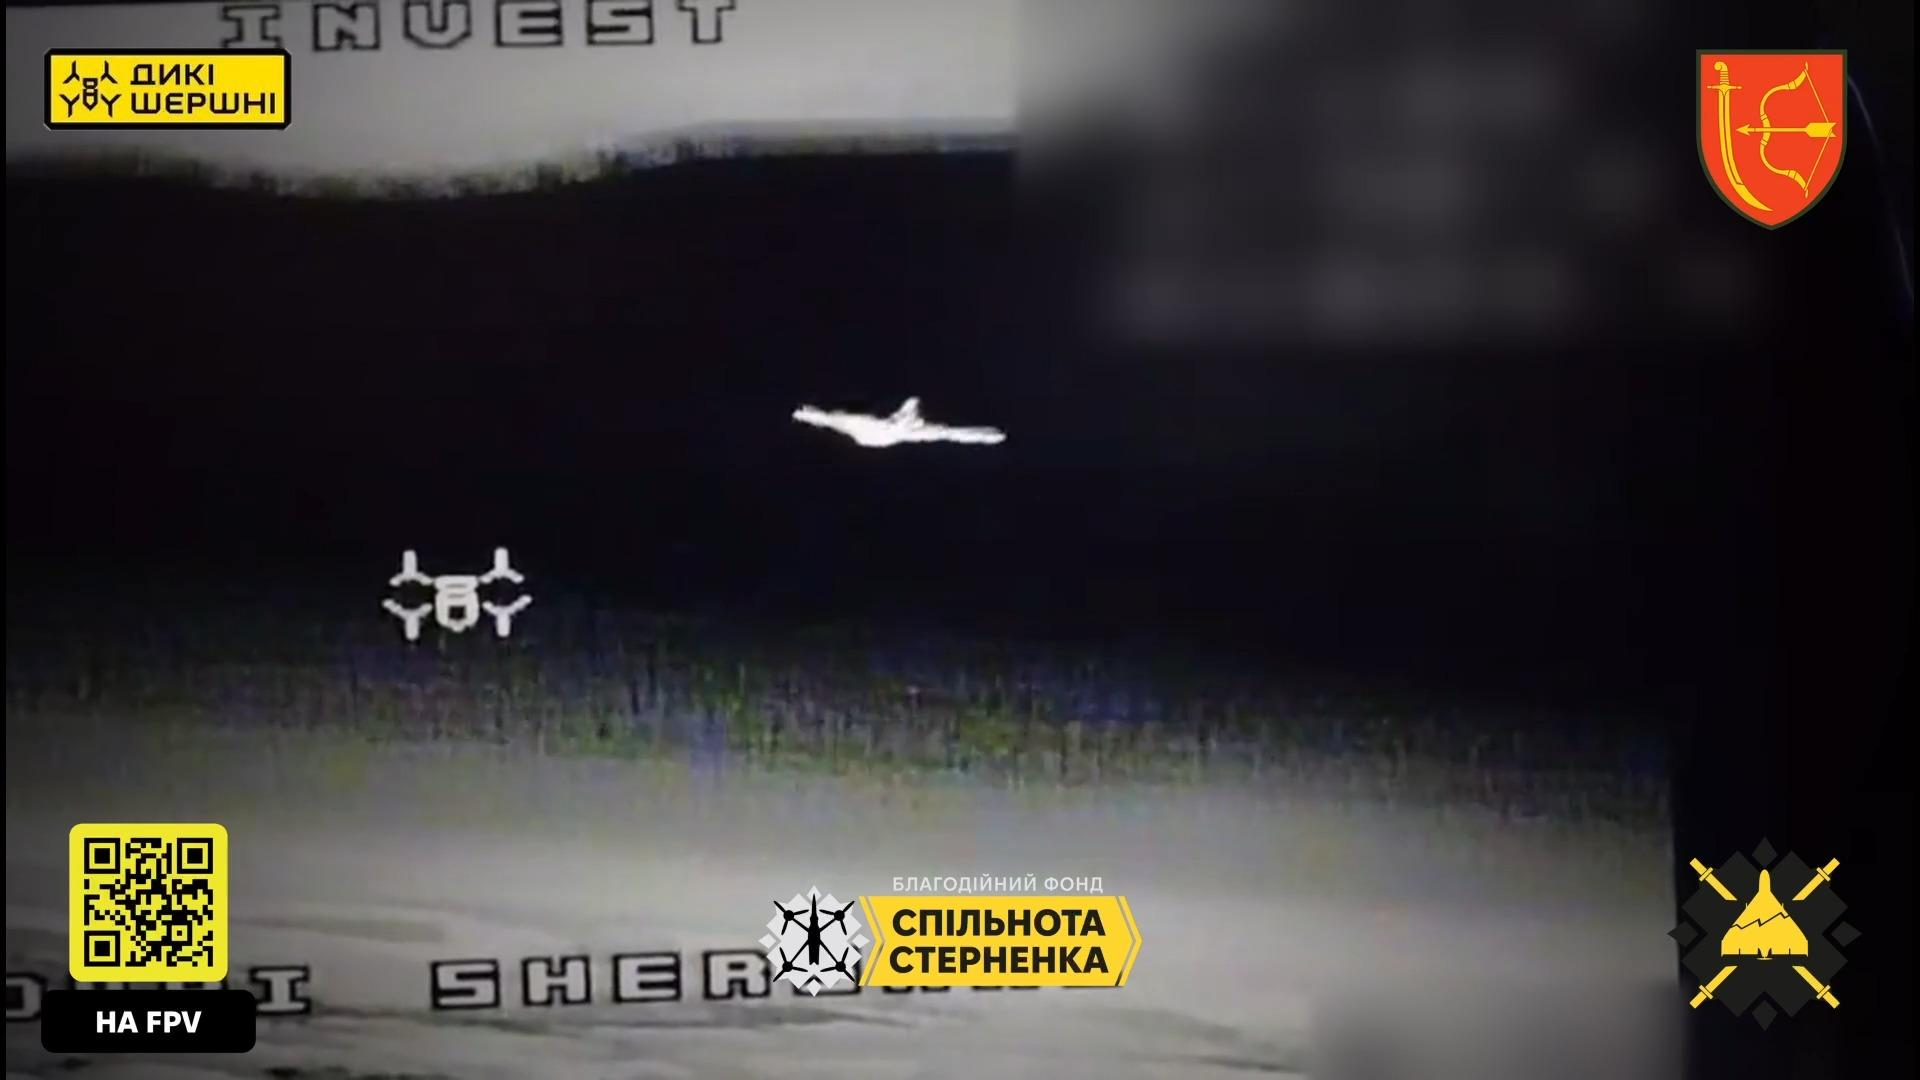Gerbera: (790, 394, 1007, 448)
